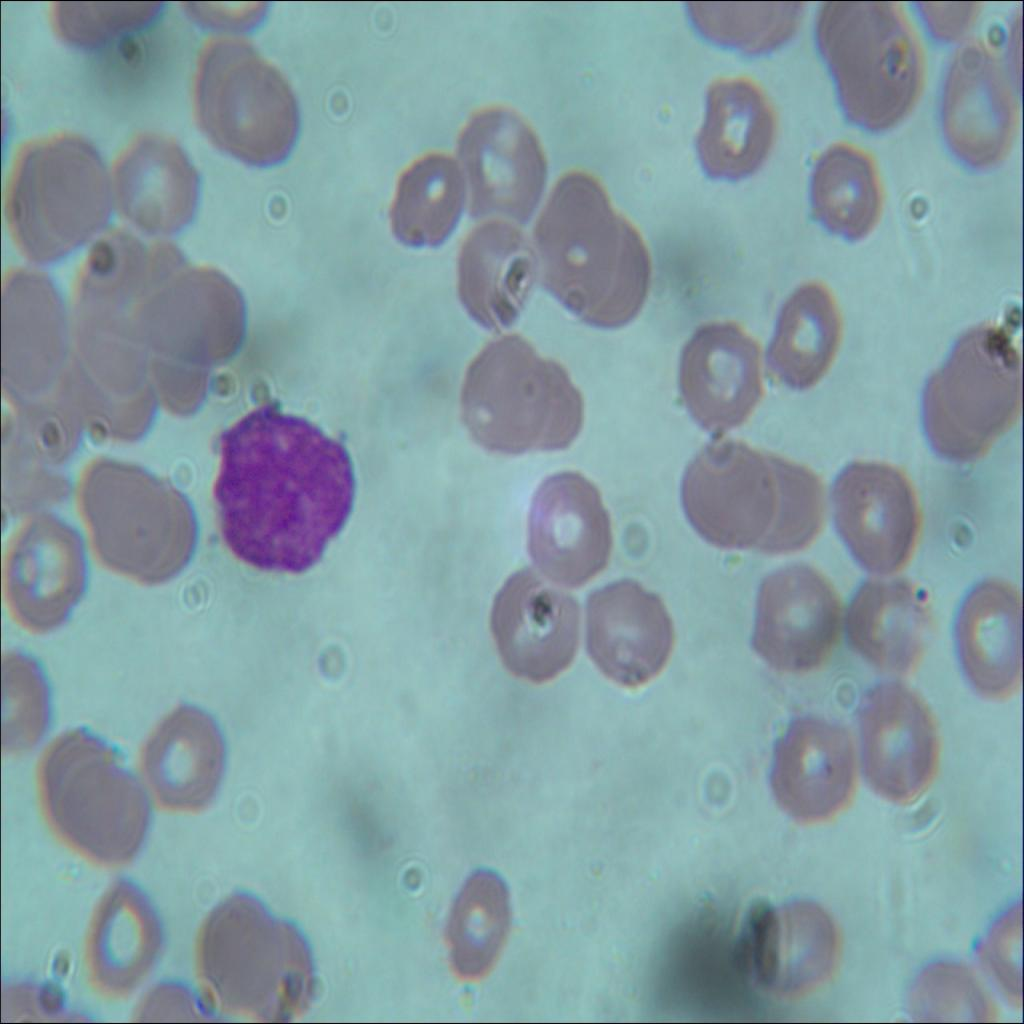Eritrosit: (76, 447, 195, 589), (6, 127, 110, 255), (478, 561, 582, 681), (0, 515, 95, 642), (831, 2, 922, 125), (102, 135, 206, 242), (676, 312, 761, 442), (829, 462, 930, 571), (578, 578, 676, 690), (538, 172, 615, 314), (450, 108, 549, 218), (518, 464, 614, 577), (848, 685, 942, 798), (460, 325, 546, 447), (736, 445, 826, 561), (944, 577, 1023, 707), (35, 724, 115, 852), (684, 444, 779, 550), (751, 884, 839, 998), (750, 564, 840, 675), (449, 212, 539, 322), (770, 718, 858, 828), (443, 861, 521, 983), (573, 212, 655, 328), (761, 274, 839, 395), (806, 131, 889, 244), (690, 74, 776, 181), (144, 701, 224, 812), (198, 898, 280, 1005), (938, 55, 1018, 162), (388, 147, 470, 251), (0, 265, 66, 393), (236, 920, 318, 1023), (83, 872, 155, 984), (844, 574, 926, 671), (914, 364, 994, 462), (196, 48, 270, 151), (76, 770, 151, 868), (949, 328, 1023, 424), (226, 72, 298, 168), (516, 368, 586, 450)
Limfoblast: (208, 405, 358, 572)
Platelet: (914, 578, 931, 610)
